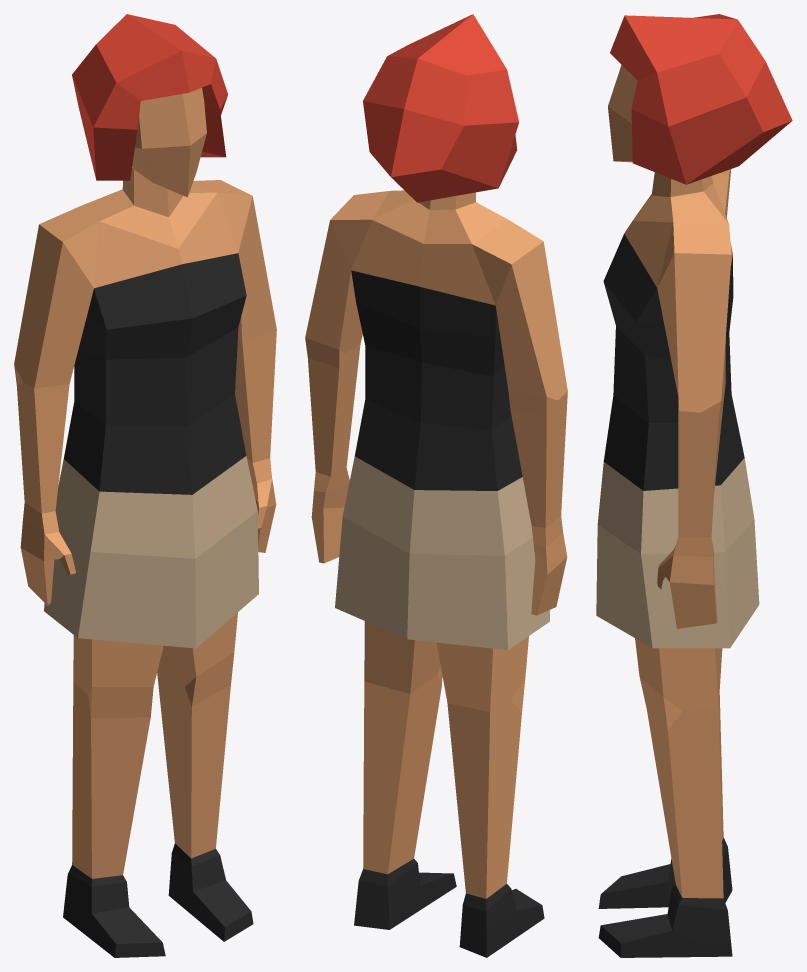
Rendered from people_woman-ginger.fbx.
3 views of the same model, side by side, from view 1: azimuth 30°, elevation 25°; view 2: azimuth 150°, elevation 25°; view 3: azimuth 270°, elevation 25° (orthographic). The views are drawn at different scales.
Parts seen in each view (by area): view 1: people_woman_ginger; view 2: people_woman_ginger; view 3: people_woman_ginger.
Boxes of the visible parts, box(x1,y1,x2,y2) form: people_woman_ginger: box(14, 14, 276, 957); people_woman_ginger: box(305, 14, 567, 957); people_woman_ginger: box(596, 14, 792, 957).
Bounding box in the file's own units: 57.16 × 200 × 39.1.
